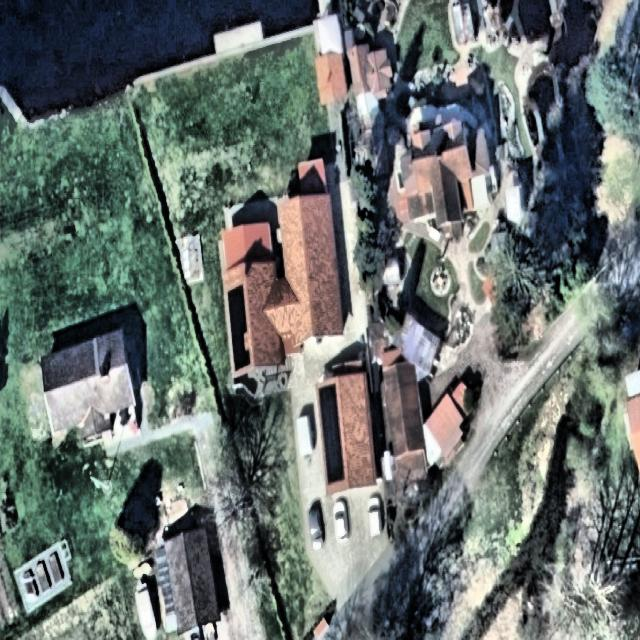roof_pv: (316, 378, 345, 487), (226, 280, 251, 373)
